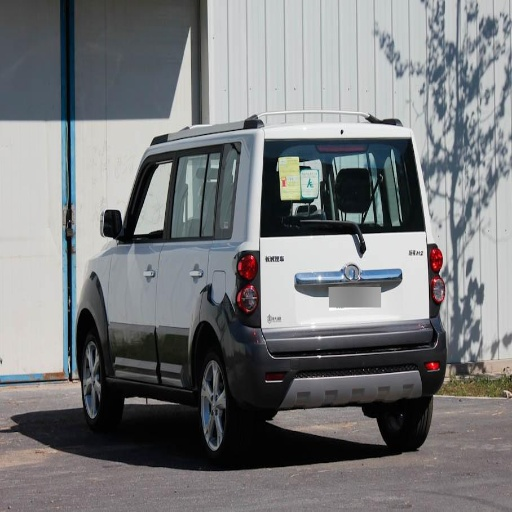back_bumper: (227, 317, 446, 401)
back_glass: (270, 203, 335, 234)
back_left_door: (159, 148, 222, 384)
trunk: (235, 235, 430, 351)
